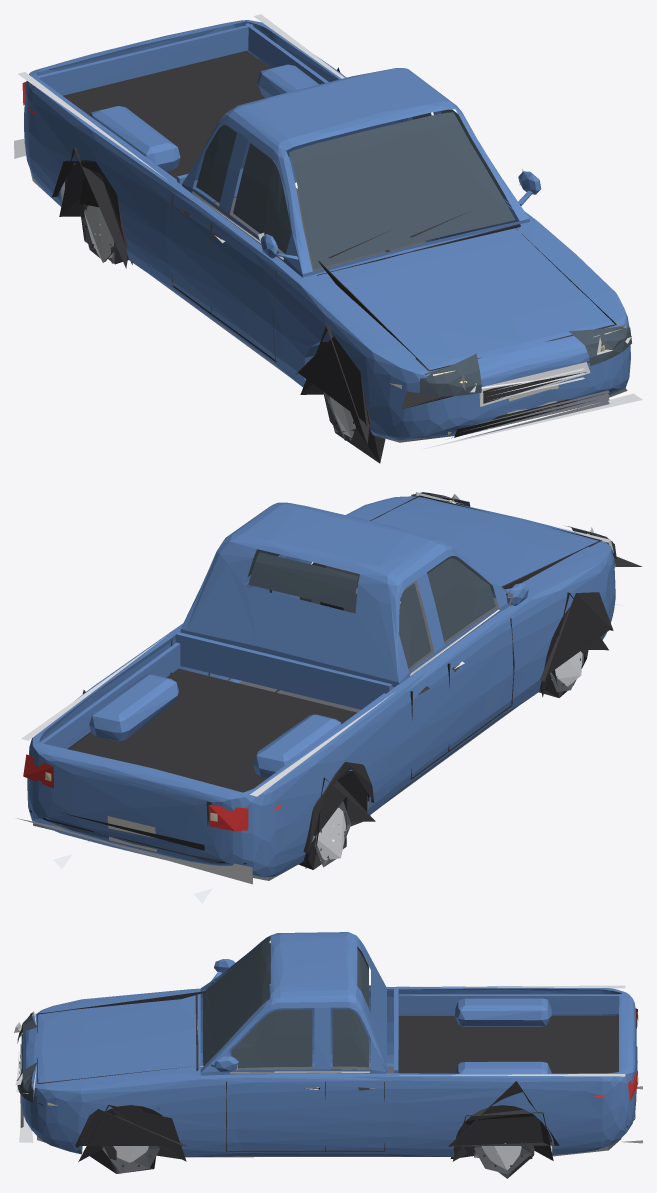
Rendered from CarV3_Pickup_L2.fbx.
3 renders of one model, top to bottom at view 1: azimuth 30°, elevation 25°; view 2: azimuth 150°, elevation 25°; view 3: azimuth 270°, elevation 25°, orthographic. The views are drawn at different scales.
Parts seen in each view (by area): view 1: CarV3_Pickup.001; view 2: CarV3_Pickup.001; view 3: CarV3_Pickup.001.
Boxes of the visible parts, bbox=[...] form: CarV3_Pickup.001: bbox=[14, 14, 642, 463]; CarV3_Pickup.001: bbox=[17, 492, 642, 903]; CarV3_Pickup.001: bbox=[14, 932, 642, 1178].
Size of the model in its own units: 2.08 by 1.7 by 5.41.
